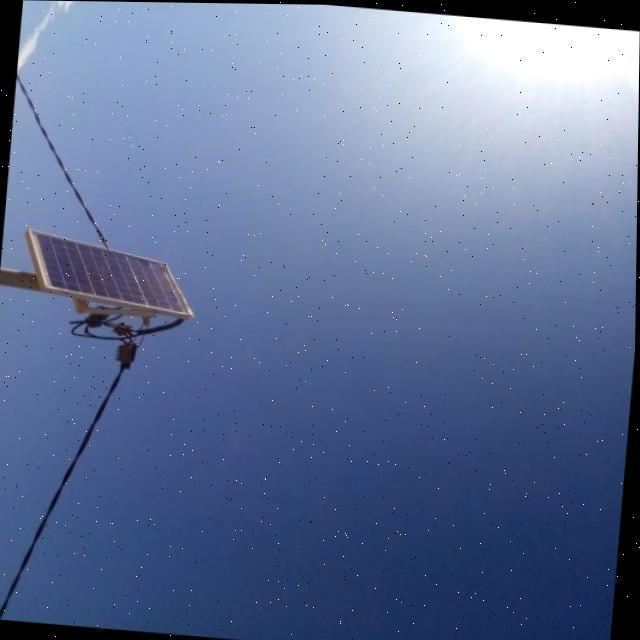Normal Solar Panel: (23, 228, 197, 314)
